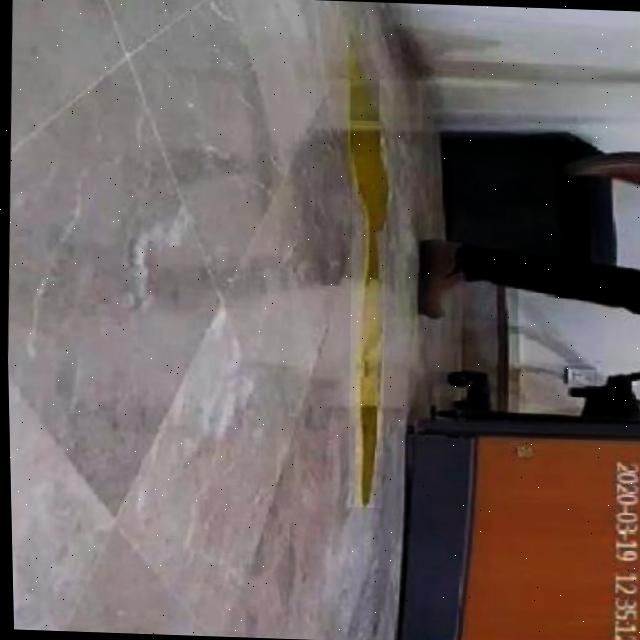spillage: (351, 126, 383, 506), (349, 79, 377, 121)
